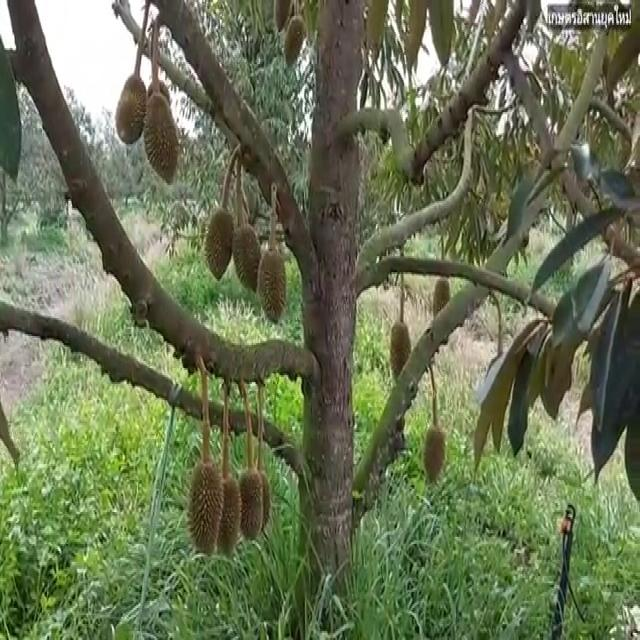durian: (138, 88, 182, 190), (184, 456, 225, 565), (205, 467, 242, 562), (201, 202, 237, 286), (255, 242, 289, 330), (113, 69, 148, 147), (230, 214, 264, 294), (233, 459, 264, 544), (386, 317, 417, 394), (431, 268, 458, 354), (421, 419, 450, 491), (281, 13, 309, 74)
